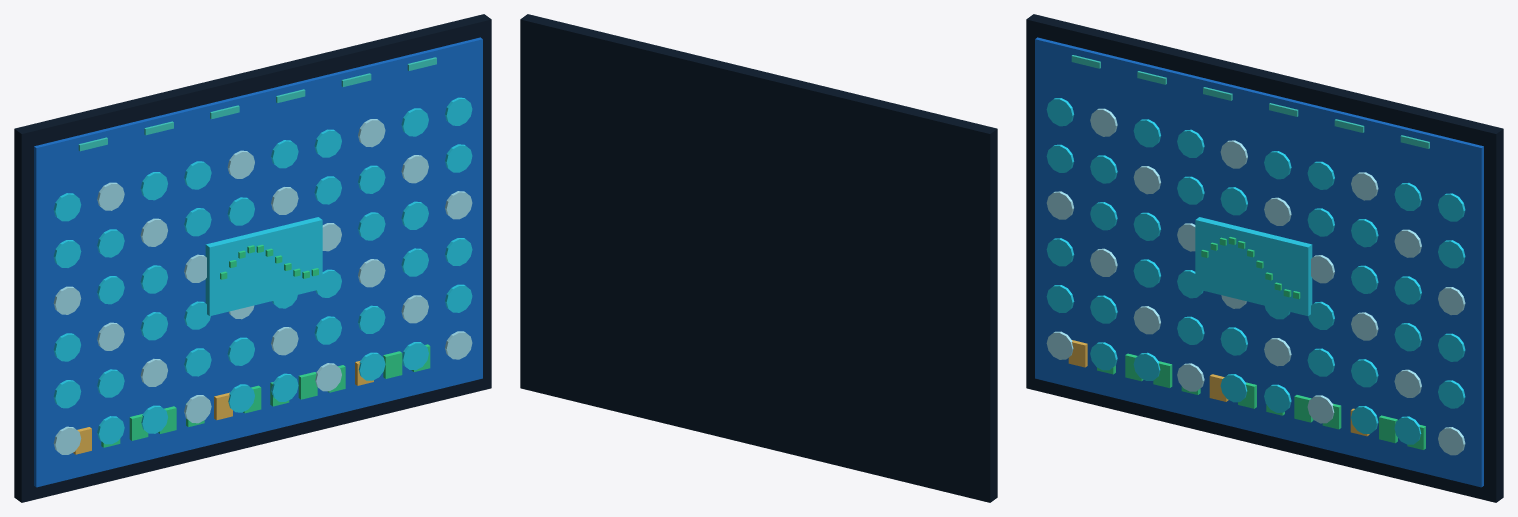
File: 27_L78_HolographicCopperDiffusionShield.fbx
3 renders of one model, left to right at view 1: azimuth 30°, elevation 25°; view 2: azimuth 150°, elevation 25°; view 3: azimuth 330°, elevation 25°, orthographic.
Parts seen in each view (by area): view 1: HolographicCopperDiffusionShield, HolographicCopperDiffusionShield_Part_0081; view 2: HolographicCopperDiffusionShield; view 3: HolographicCopperDiffusionShield, HolographicCopperDiffusionShield_Part_0081.
Part boxes in pixels (x1,y1,x2,y2): HolographicCopperDiffusionShield: [14, 14, 491, 502]; HolographicCopperDiffusionShield_Part_0081: [205, 217, 322, 315]; HolographicCopperDiffusionShield: [520, 14, 997, 502]; HolographicCopperDiffusionShield: [1026, 14, 1503, 502]; HolographicCopperDiffusionShield_Part_0081: [1195, 217, 1312, 315].
Size of the model in its own units: 200 by 150 by 14.6.
